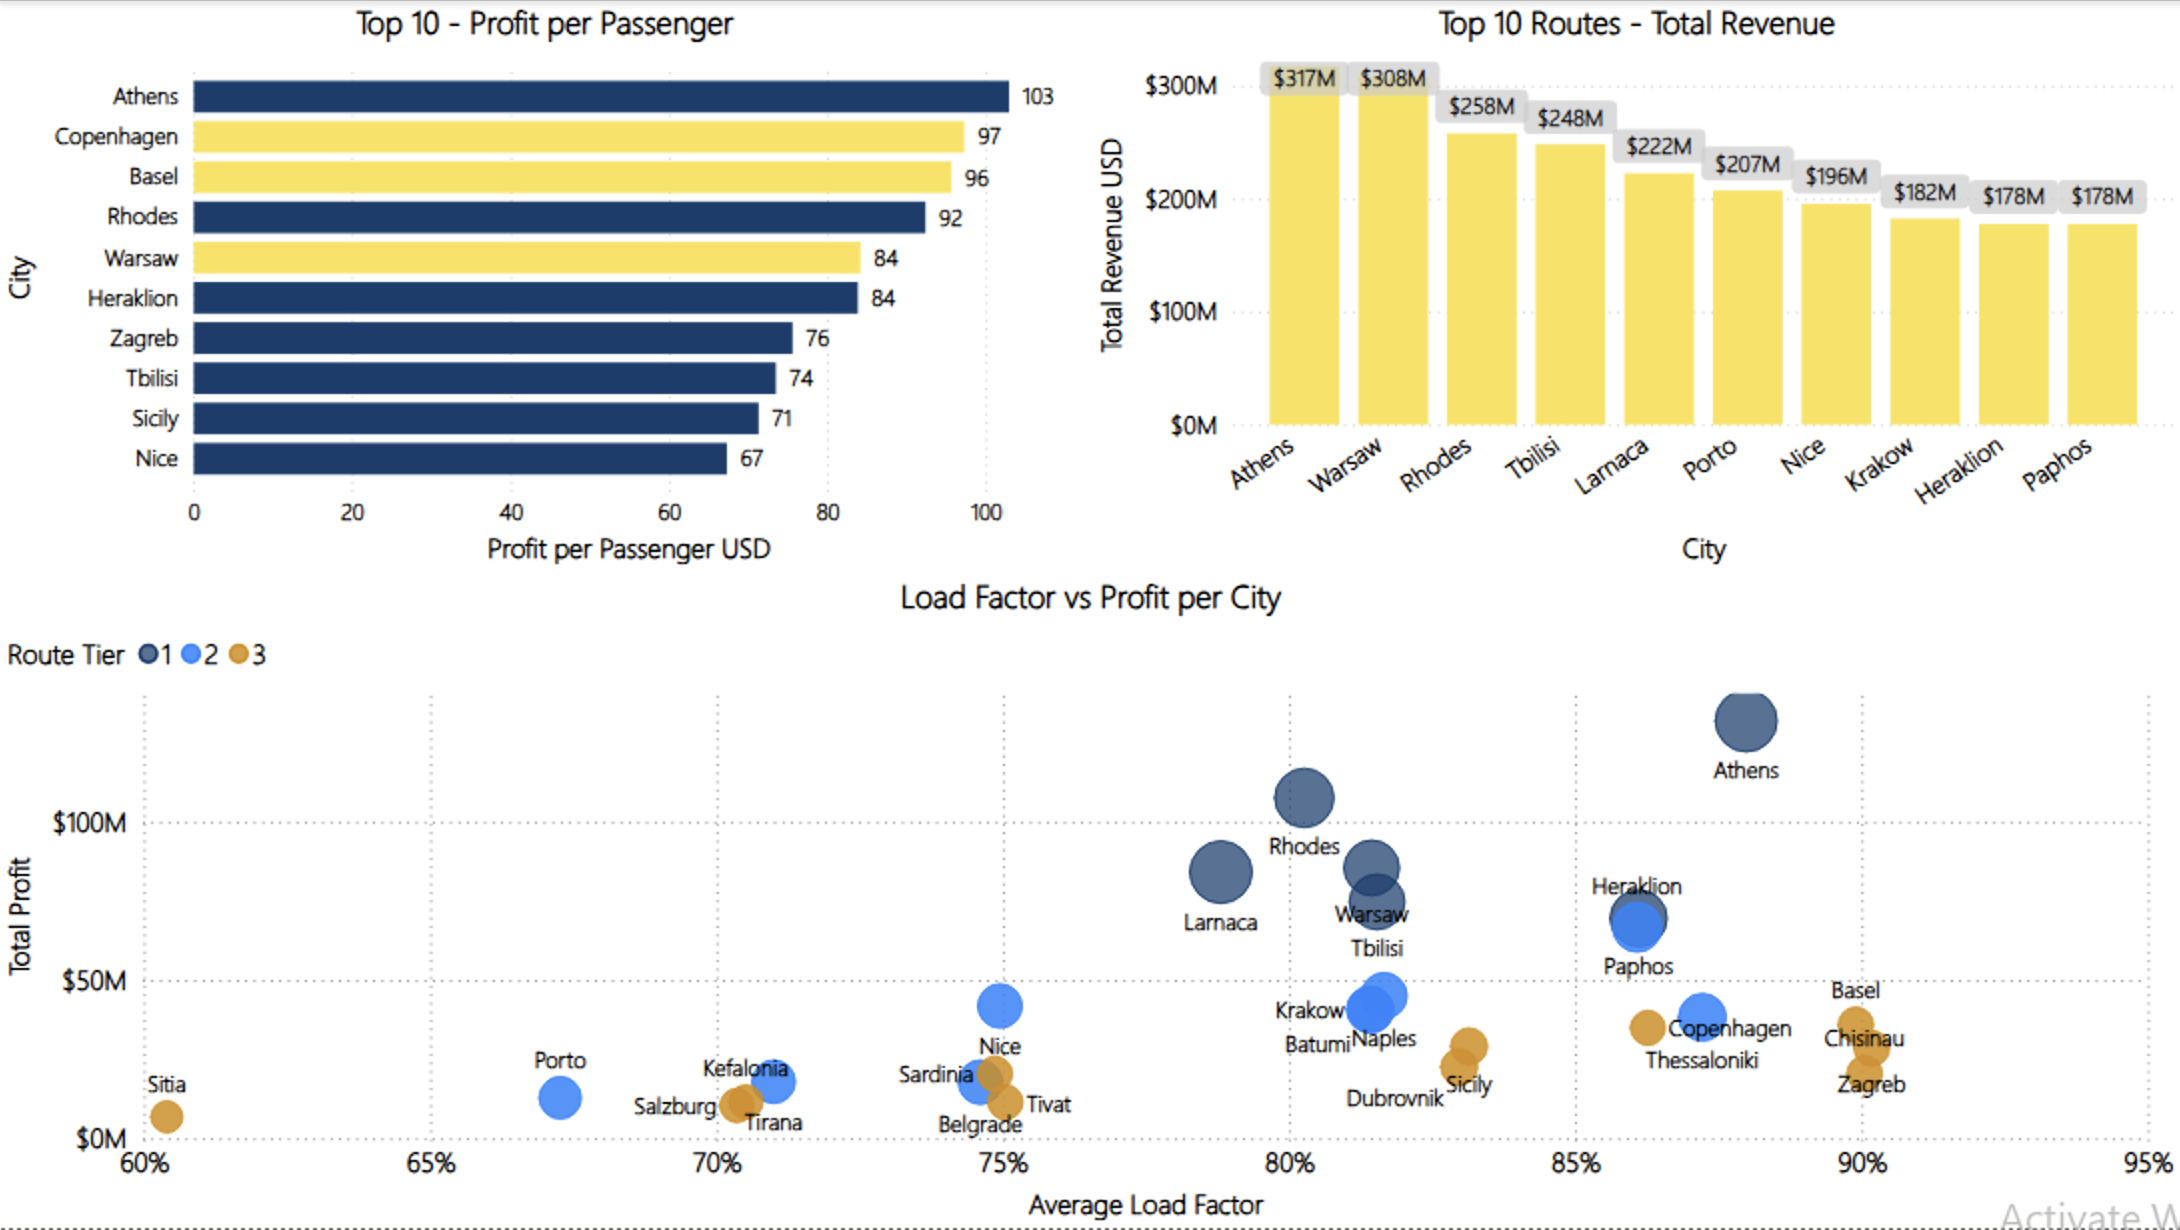

Layout of this report page (visuals, bound fields, positions):
{"tool":"powerbi","page":{"name":"Route Performance","canvas":[1280,720],"ordinal":3},"visuals":[{"type":"lineClusteredColumnComboChart","title":"Top 10 Routes - Total Revenue","fields":{"Category":["dim_route.City"],"Y":["Measures_.Total_Revenue"]},"box":[640,0,640,336],"z":0},{"type":"scatterChart","title":"Load Factor vs Profit per City ","fields":{"X":["Measures_.Average_Load_Factor"],"Y":["Measures_.Total_Profit"],"Category":["dim_route.City"],"Size":["Measures_.Total_Passengers"],"Series":["dim_route.Route_Tier"]},"box":[0,336,1280,384],"z":1000},{"type":"clusteredBarChart","title":"Top 10 - Profit per Passenger  ","fields":{"Y":["Measures_.Profit per Passenger"],"Category":["dim_route.City"]},"box":[0,0,640,336],"z":3001}]}

Visuals, with their boxes in screenshot pixels (x1, y1, x2, y2), scaled from the page's 1280x720 canvas onto the 2180x1230 screenshot:
"Top 10 Routes - Total Revenue" lineClusteredColumnComboChart: [x1=1090, y1=0, x2=2179, y2=574]
"Load Factor vs Profit per City " scatterChart: [x1=0, y1=574, x2=2179, y2=1229]
"Top 10 - Profit per Passenger  " clusteredBarChart: [x1=0, y1=0, x2=1090, y2=574]
